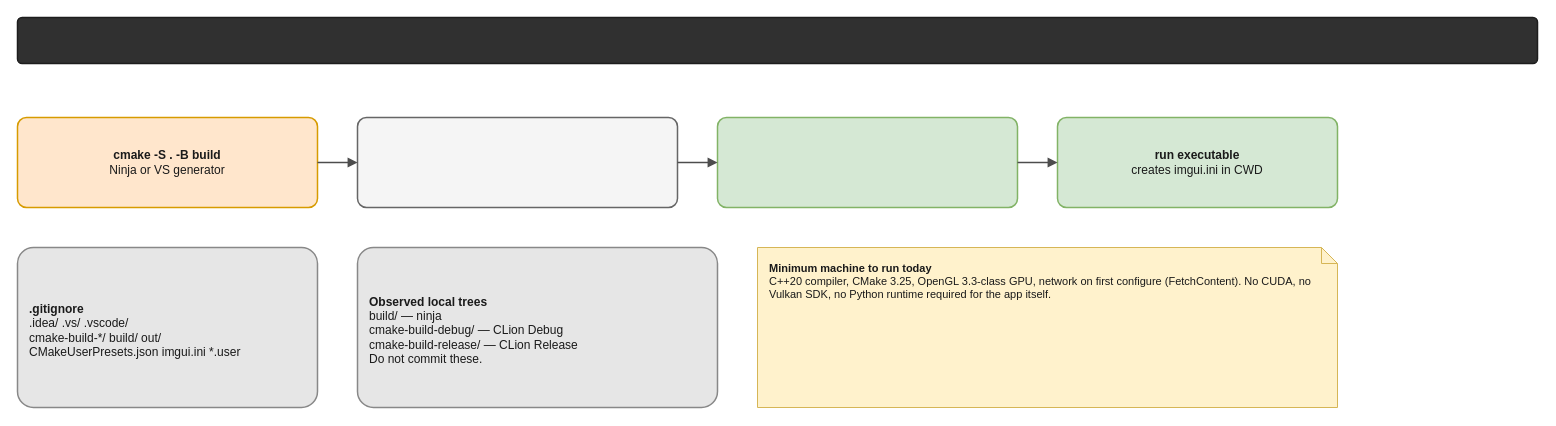
Some shapes in this 1556 by 426 pixel diagram are drawn without their labels. The centre of each missing label's shape, as x and y in pixels:
"cmake --build build Open_PhysX.exe / binary" belongs at (x=867, y=162).
"Configure → build → run (today)" belongs at (x=777, y=40).
"Fetch raylib + rlImGui into build/_deps compile static .a / .lib" belongs at (x=517, y=162).
